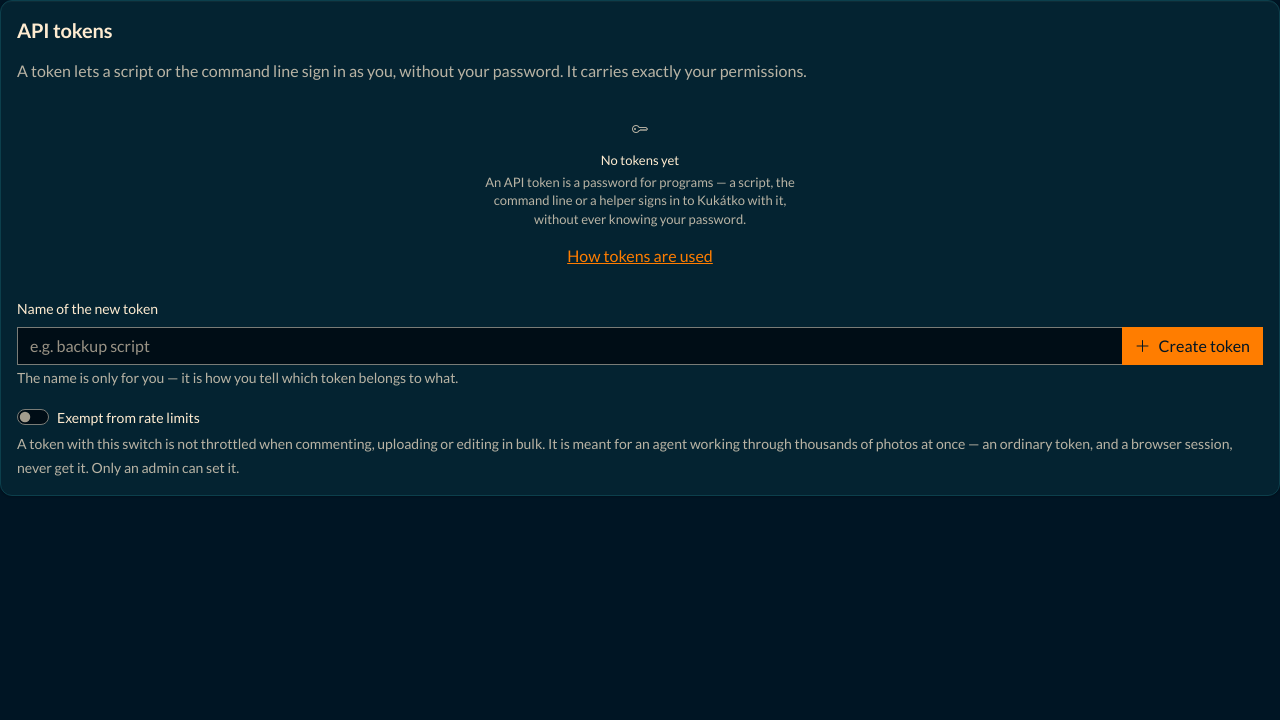
Test: ApiTokensCard rate-limit exemption › lets the maintainer ask for an exempt token when creating one
The width and height of the screenshot is (1280, 720).
expect the text "No tokens yet" is shown: met, box [601,151,679,169]
Type "agent" into the field labelled "Name of the new token" at [570, 346], box [17,327,1123,365]
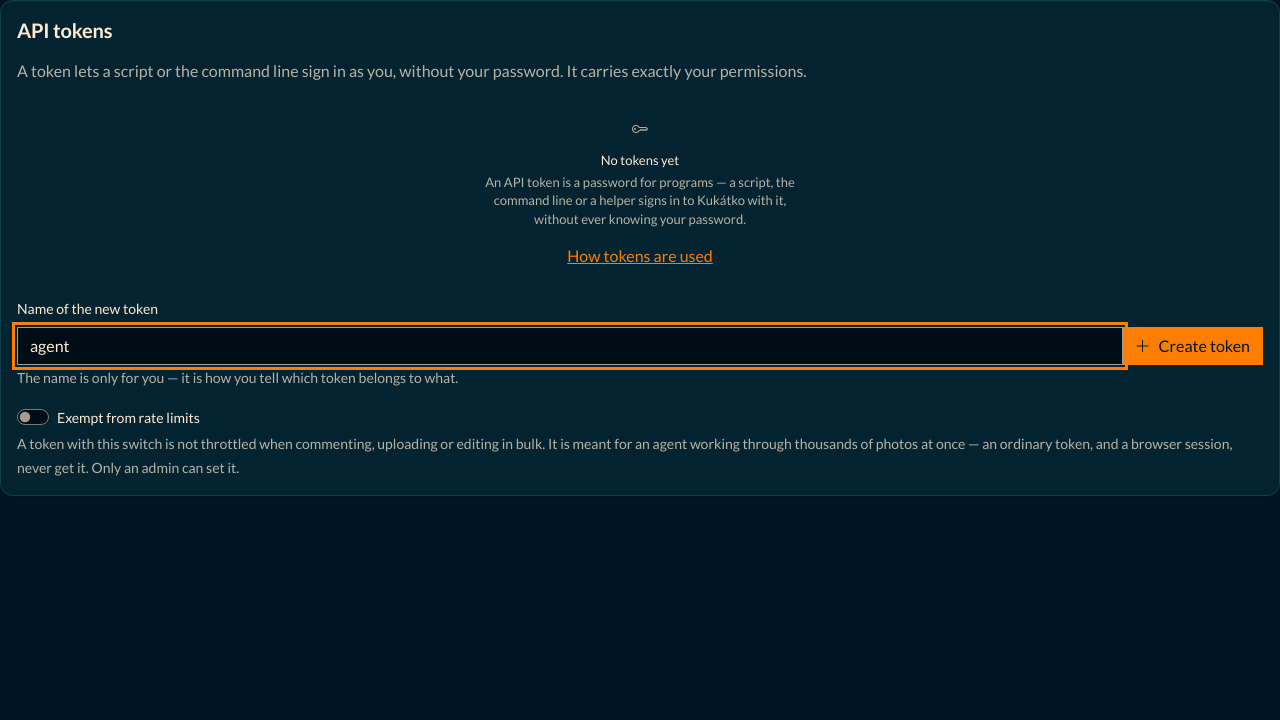
Click the checkbox labelled "Exempt from rate limits" at [33, 417], box [17,409,49,425]
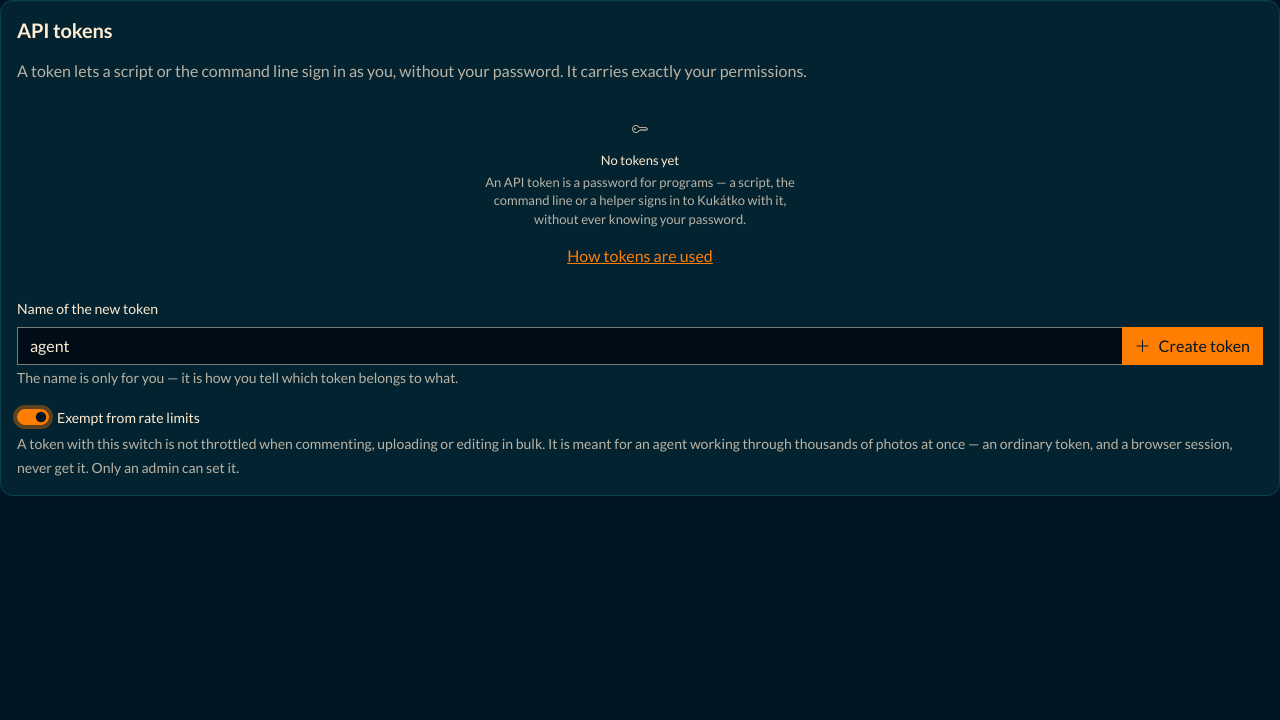
Click the button "Create token" at [1192, 346], box [1122,327,1263,365]
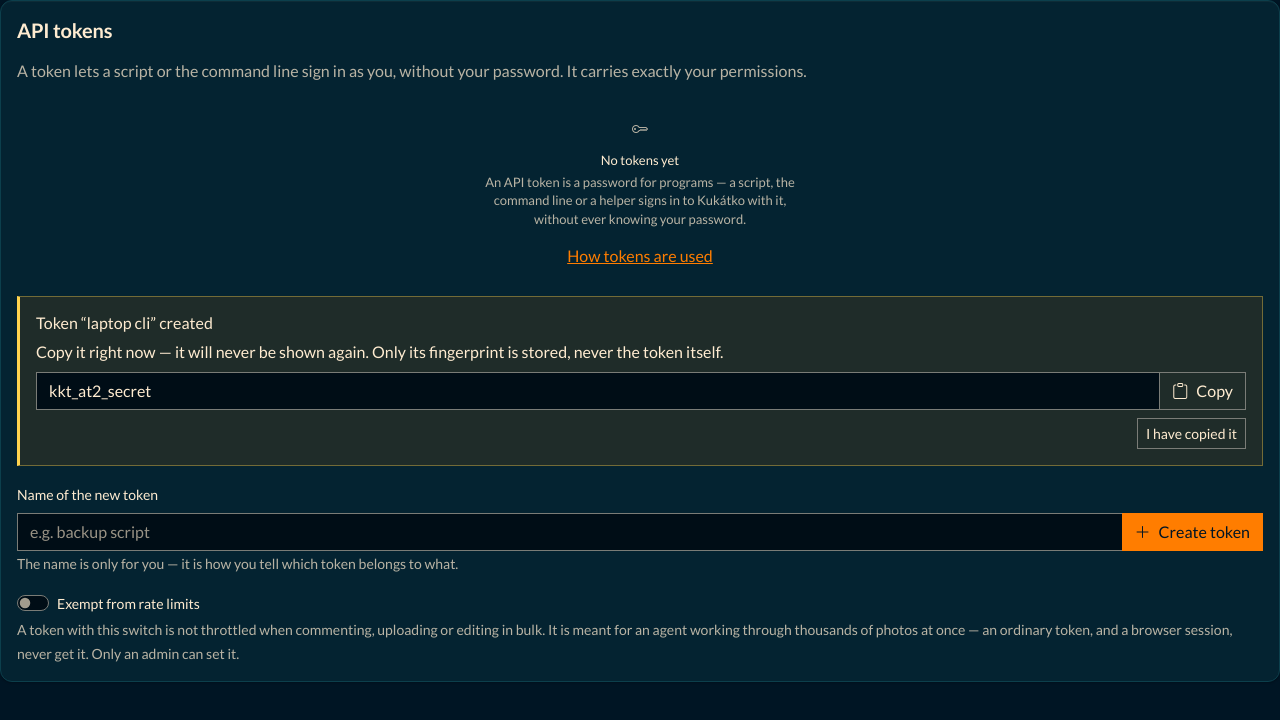
expect the checkbox labelled "Exempt from rate limits" is not checked: met, box [17,595,49,611]
expect the field named "Secret token" is shown: met, box [36,372,1160,410]
